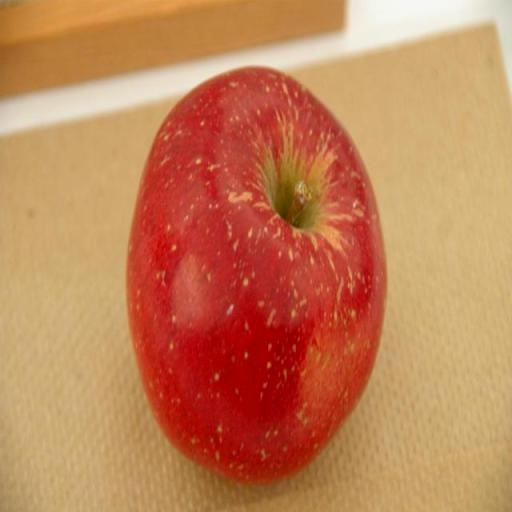fruit: (127, 68, 385, 482)
